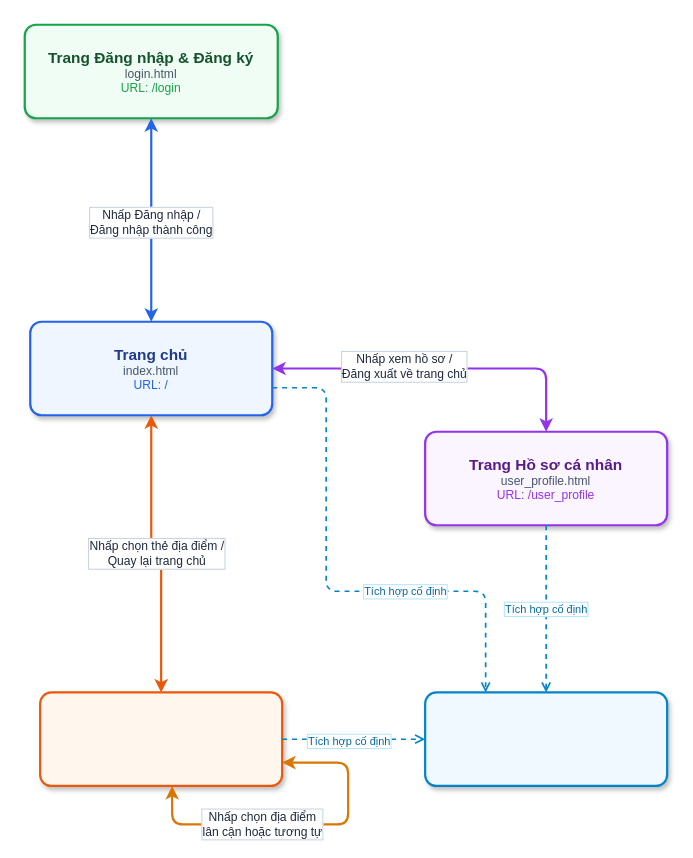
Image size: 693x858. Some labels were removed from this diagram. Each missing label, with the centre of its shape:
Cửa sổ Trợ lý AI chatbot_widget.html: (546,740)
Trang chi tiết địa điểm poi.html URL: /poi/<poi_id>: (161,740)
